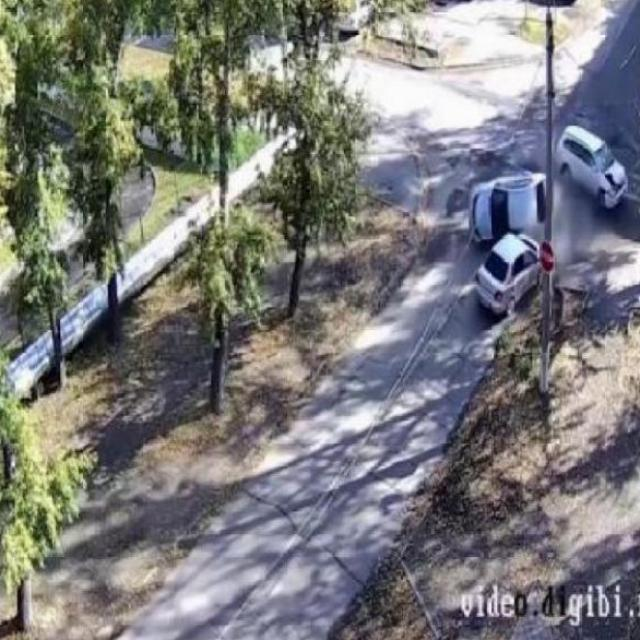accident: (488, 180, 552, 284)
